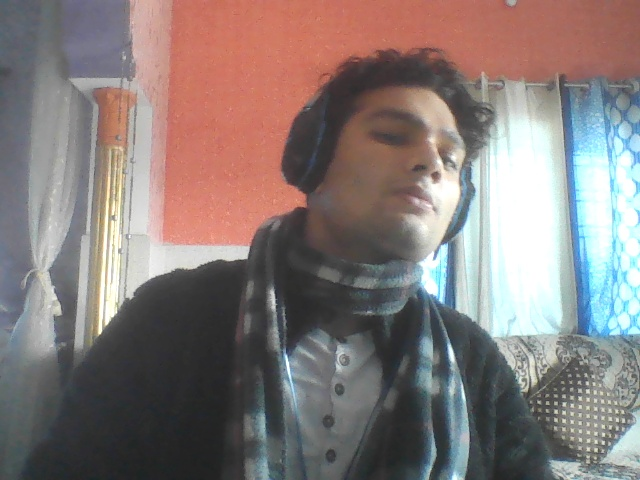real: (309, 32, 473, 264)
